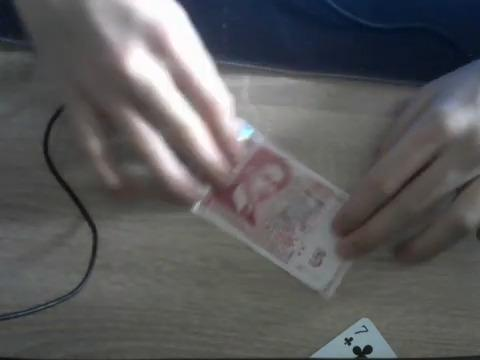5leva: (189, 119, 354, 300)
